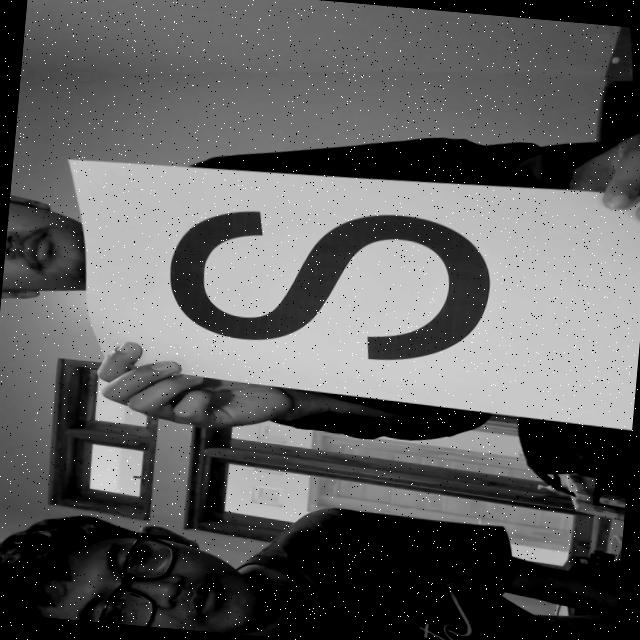s: (150, 176, 530, 384)
